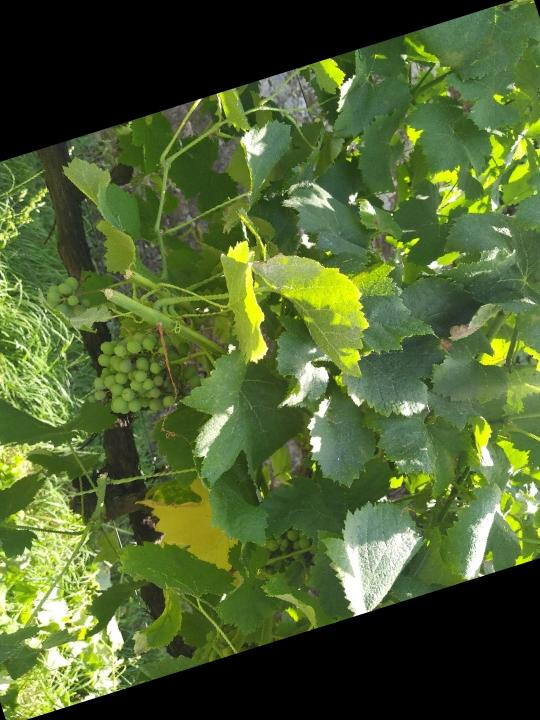grape: (72, 317, 209, 432)
